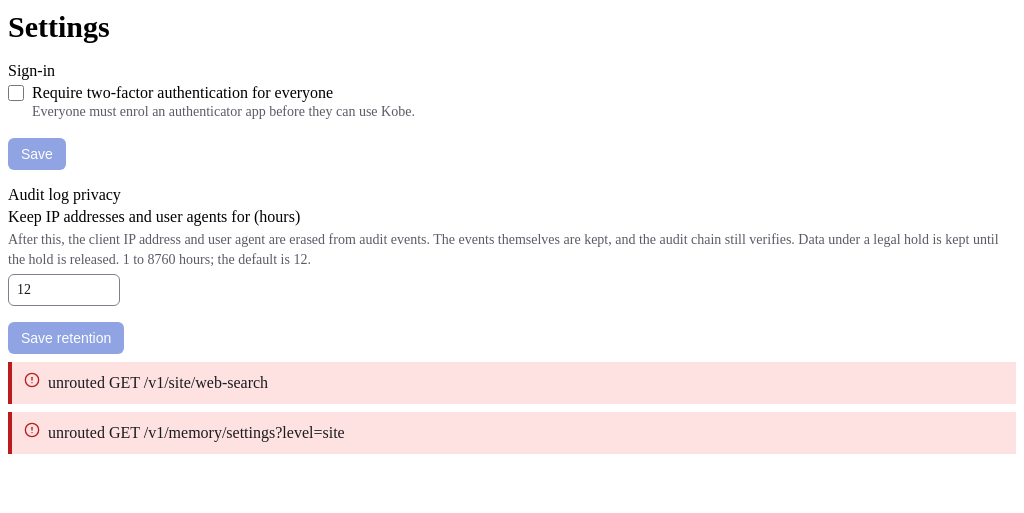
Scenario: audit log privacy setting › saves how long audit events keep IP addresses
The image size is (1024, 513).
Replace the text in the number field with "48". click: (64, 290)
box: [8,274,120,306]
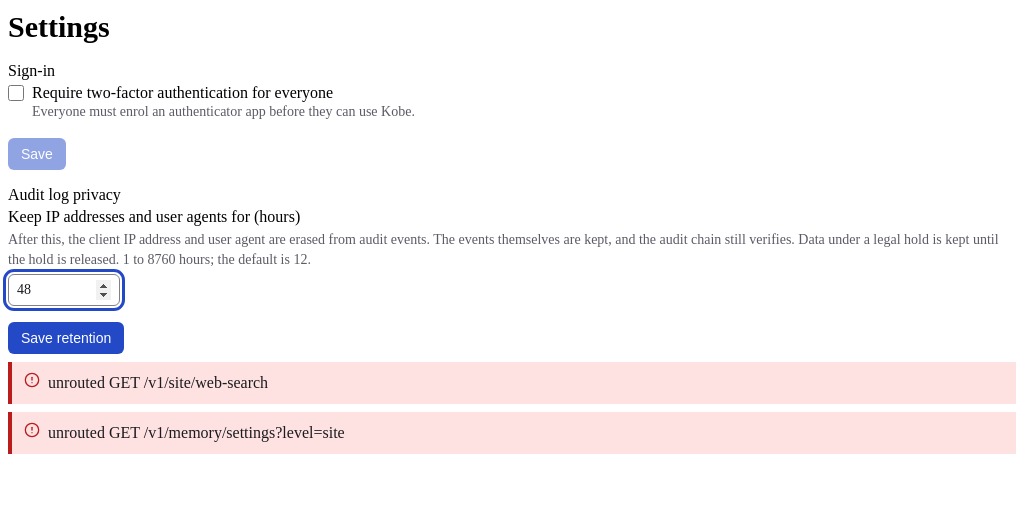
Click the button "Save retention". click: (66, 338)
box: [8,322,124,354]
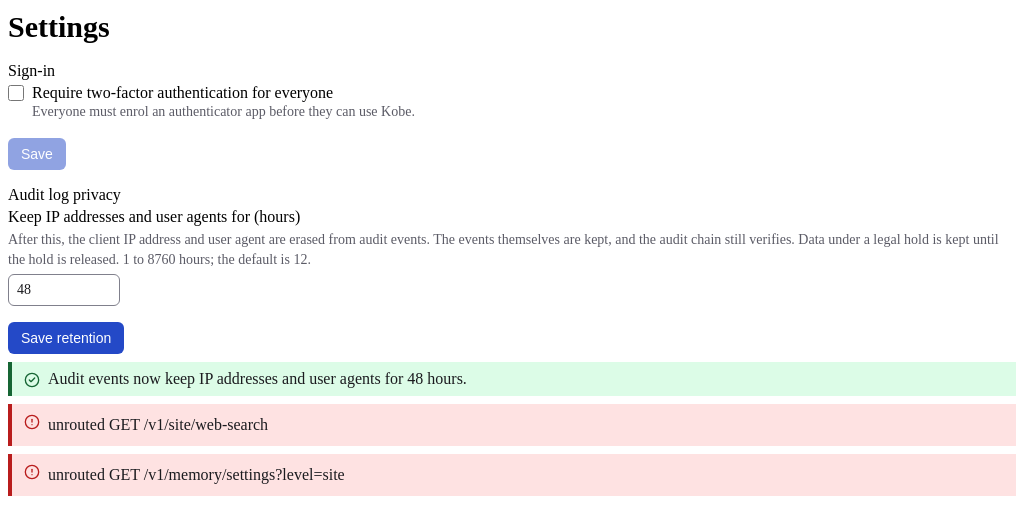
Now the text "for 48 hours" is shown, box [48,370,467,386]
